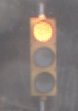Red: (27, 11, 61, 102)
